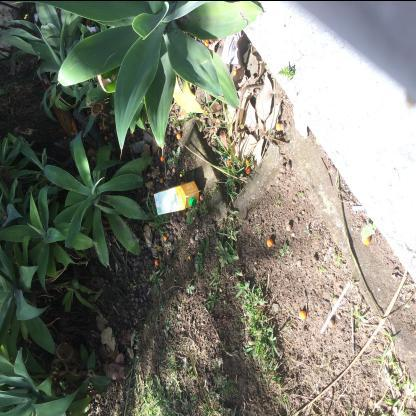karton: (154, 180, 203, 216)
